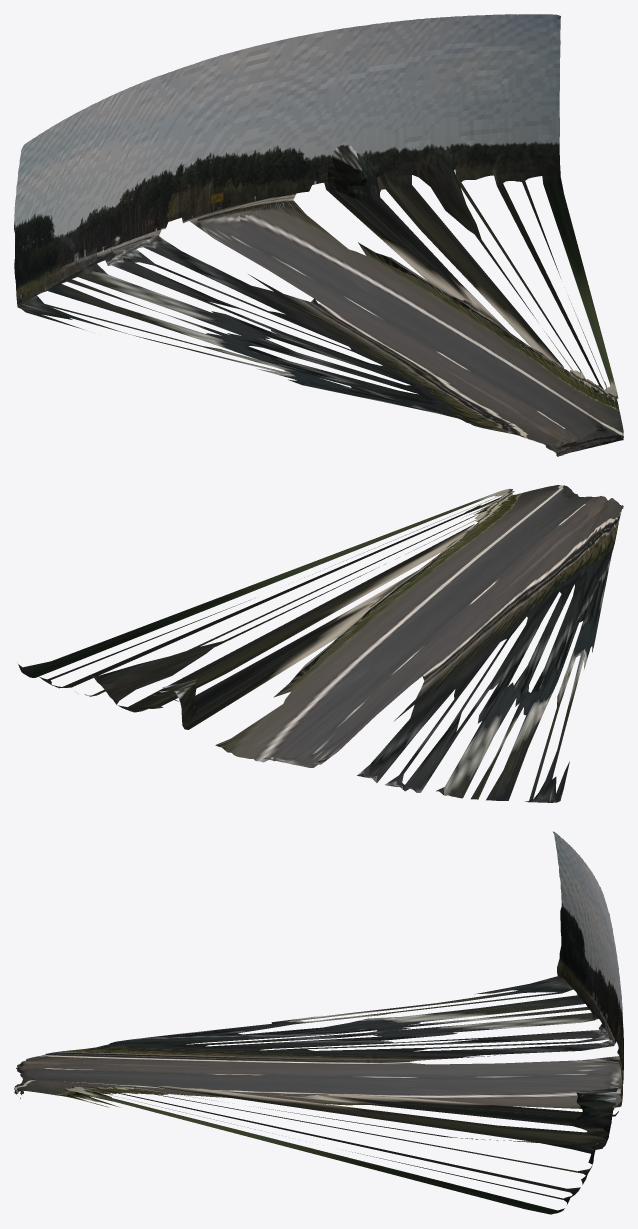
3 renders of one model, top to bottom at view 1: azimuth 30°, elevation 25°; view 2: azimuth 150°, elevation 25°; view 3: azimuth 270°, elevation 25°, orthographic. The views are drawn at different scales.
Visible parts, largest first — view 1: defaultobject; view 2: defaultobject; view 3: defaultobject.
Boxes of the visible parts, x1,y1,x2,y2 form: defaultobject: [14, 14, 623, 456]; defaultobject: [18, 485, 623, 802]; defaultobject: [14, 831, 623, 1214].
Size of the model in its own units: 41.12 by 12.88 by 44.34.
1 material, 1 textured.
